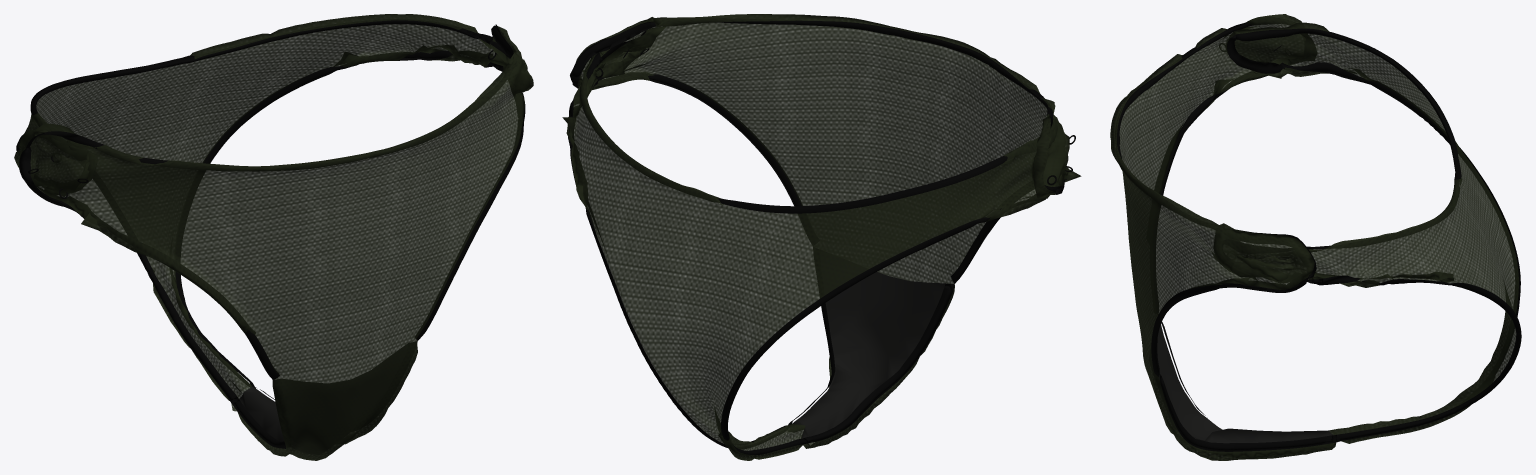
The model's file is snaps.glb.
3 renders of one model, left to right at view 1: azimuth 30°, elevation 25°; view 2: azimuth 150°, elevation 25°; view 3: azimuth 270°, elevation 25°, orthographic. The views are drawn at different scales.
Visible parts, largest first — view 1: Cloth; view 2: Cloth; view 3: Cloth.
Boxes of the visible parts, x1=… form: Cloth: x1=14, y1=14, x2=533, y2=460; Cloth: x1=562, y1=14, x2=1081, y2=460; Cloth: x1=1110, y1=14, x2=1521, y2=460.
Bounding box in the file's own units: 0.3228 × 0.234 × 0.2514.
Materials: 4 (4 with a texture image).
